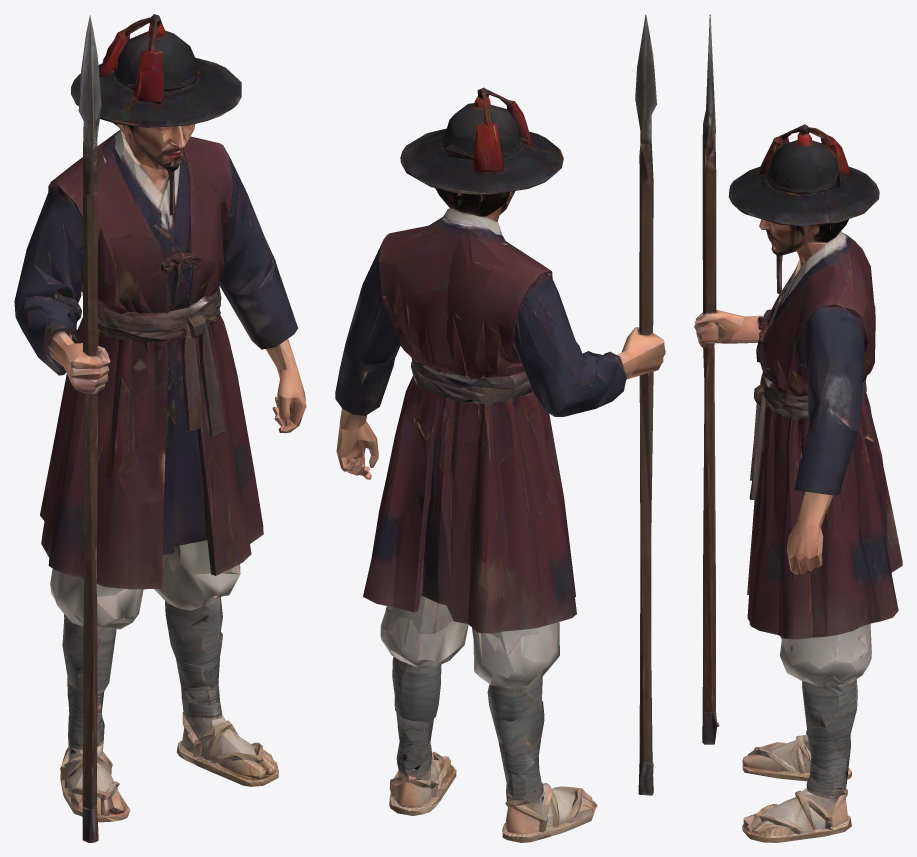
File: rioter_spear.glb
The picture shows the model from 3 angles, left to right: view 1: azimuth 30°, elevation 25°; view 2: azimuth 150°, elevation 25°; view 3: azimuth 270°, elevation 25°; orthographic projection. The views are drawn at different scales.
Bounding box in the file's own units: 0.6875 × 1.9 × 0.4887.
Materials: 1 (1 with a texture image).
